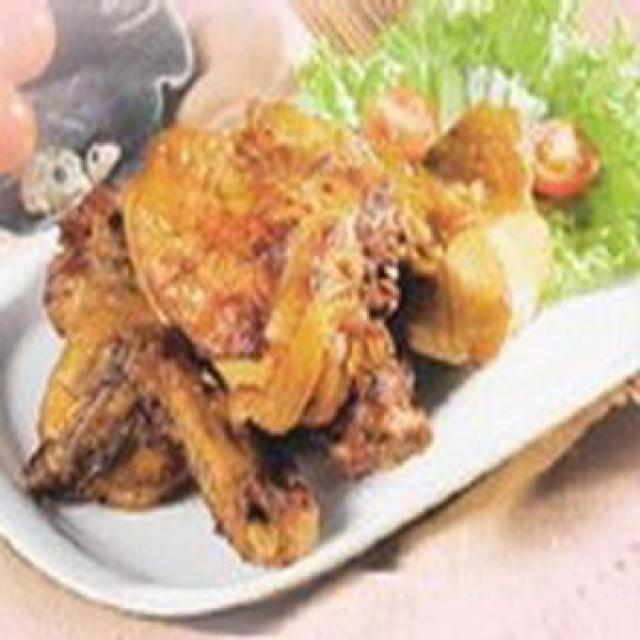鸡肉料理 含炸鸡: (30, 34, 587, 587)
